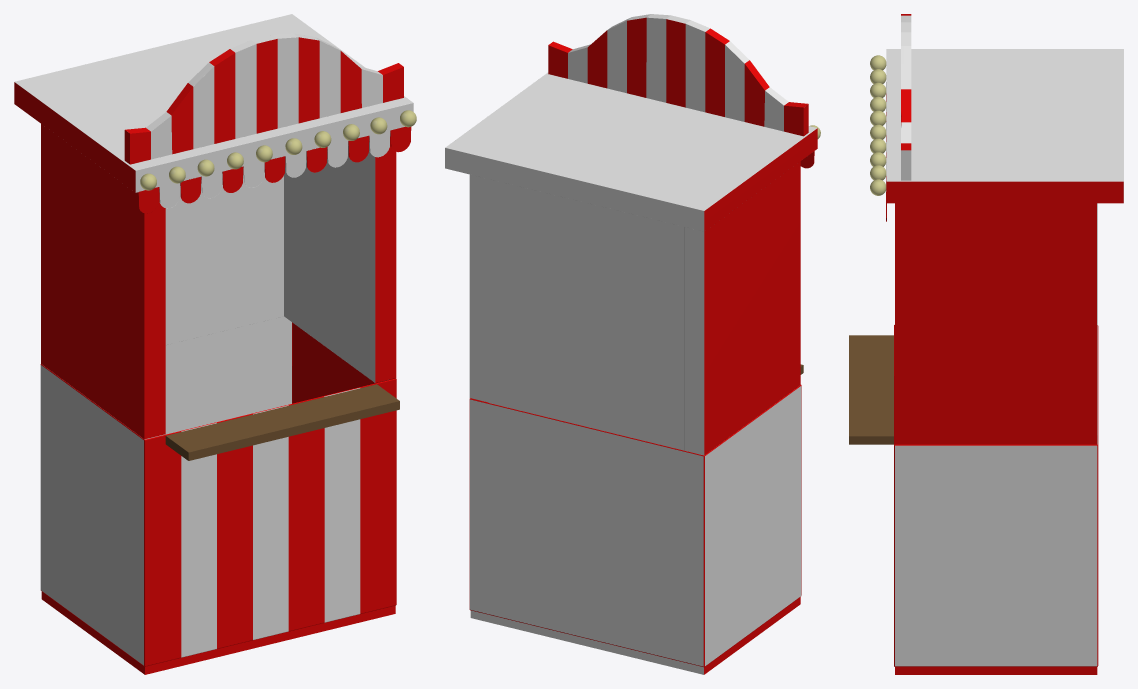
The model's file is Booth.fbx.
The picture shows the model from 3 angles, left to right: view 1: azimuth 30°, elevation 25°; view 2: azimuth 150°, elevation 25°; view 3: azimuth 270°, elevation 25°; orthographic projection. The views are drawn at different scales.
Visible parts, largest first — view 1: boothBottom, wallRight, polySurface61, wallLeft, topSign, wallBack, shelf; view 2: boothBottom, wallBack, polySurface61, wallRight, topSign, wallLeft; view 3: wallLeft, boothBottom, polySurface61, shelf, topSign.
Boxes of the visible parts, <box> form: boothBottom: <box>40,316,396,674</box>; wallRight: <box>41,124,165,439</box>; polySurface61: <box>14,14,413,192</box>; wallLeft: <box>284,136,396,382</box>; topSign: <box>124,33,403,164</box>; wallBack: <box>165,162,283,344</box>; shelf: <box>165,384,399,460</box>; boothBottom: <box>469,385,801,674</box>; wallBack: <box>488,179,684,450</box>; polySurface61: <box>445,72,817,231</box>; wallRight: <box>684,161,800,455</box>; topSign: <box>548,14,808,136</box>; wallLeft: <box>469,174,488,402</box>; wallLeft: <box>895,203,1097,444</box>; boothBottom: <box>894,325,1098,674</box>; polySurface61: <box>886,49,1123,203</box>; shelf: <box>849,335,893,444</box>; topSign: <box>901,14,911,180</box>.
Bounding box in the file's own units: 6.99 × 14.43 × 6.11.
